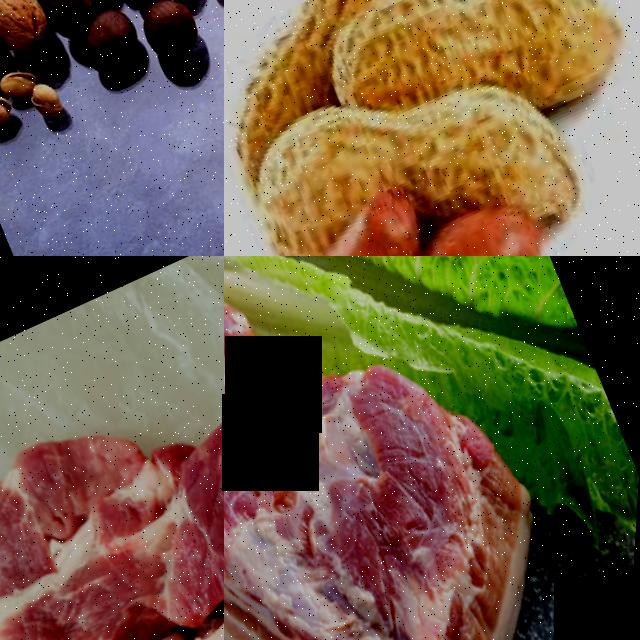peanuts: (313, 0, 619, 126), (378, 56, 587, 236), (270, 194, 455, 256), (403, 192, 572, 256)
pork belly: (264, 416, 632, 640), (0, 336, 224, 640), (224, 257, 368, 640)
